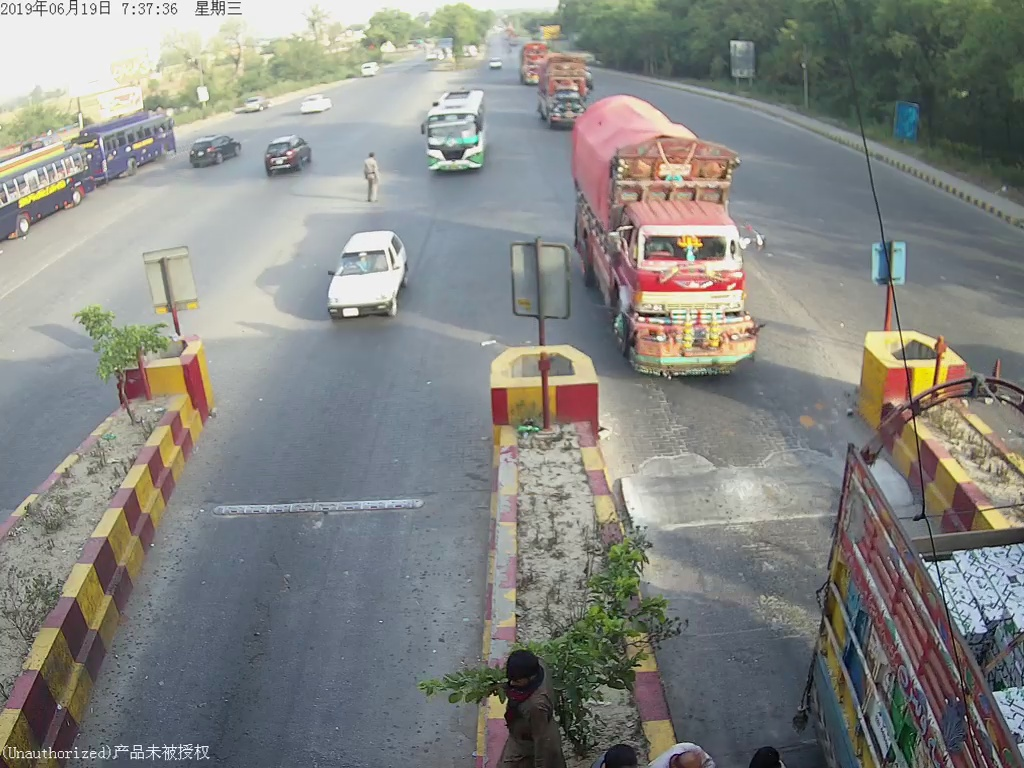Cat-1: (319, 231, 412, 327)
Cat-3: (422, 83, 493, 176)
Cat-4: (576, 102, 769, 383), (532, 49, 594, 131)
